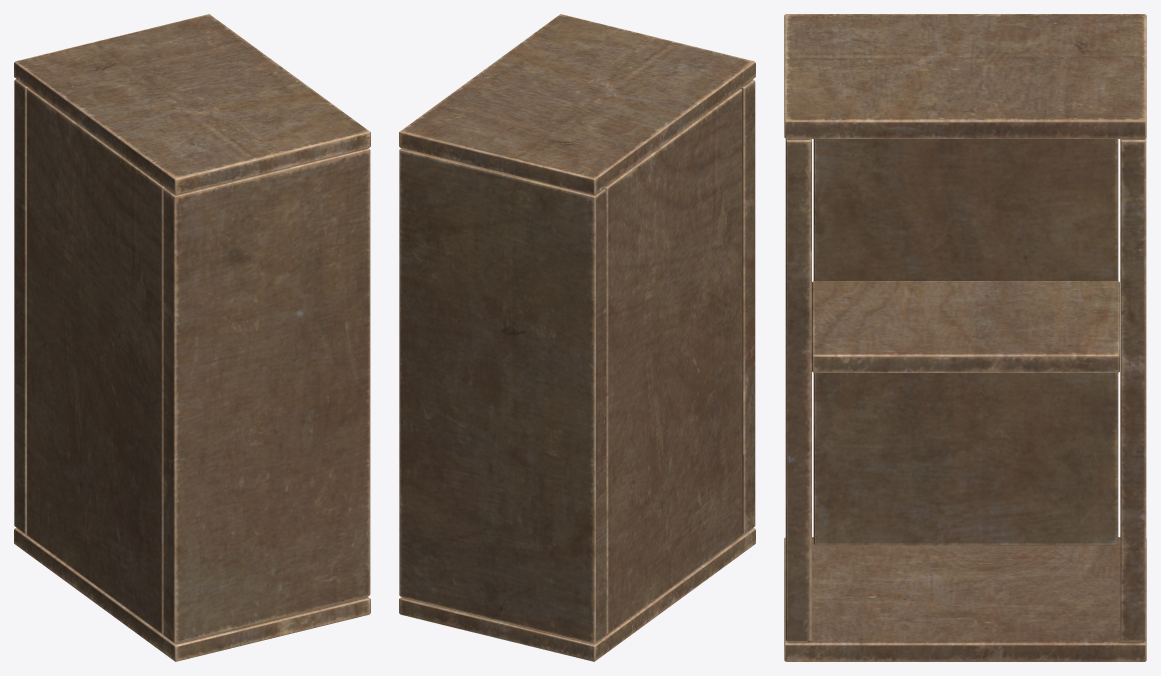
The model's file is SM_Wall_Shelf_3.fbx.
The picture shows the model from 3 angles, left to right: view 1: azimuth 30°, elevation 25°; view 2: azimuth 150°, elevation 25°; view 3: azimuth 270°, elevation 25°; orthographic projection. The views are drawn at different scales.
Parts seen in each view (by area): view 1: SM_Wall_Shelf_3_LOD0; view 2: SM_Wall_Shelf_3_LOD0; view 3: SM_Wall_Shelf_3_LOD0.
Boxes of the visible parts, box(x1,y1,x2,y2) form: SM_Wall_Shelf_3_LOD0: box(14, 14, 370, 661); SM_Wall_Shelf_3_LOD0: box(399, 14, 755, 661); SM_Wall_Shelf_3_LOD0: box(784, 14, 1146, 661).
Size of the model in its own units: 32.62 by 46.48 by 76.66.
Materials: 1 (1 with a texture image).
